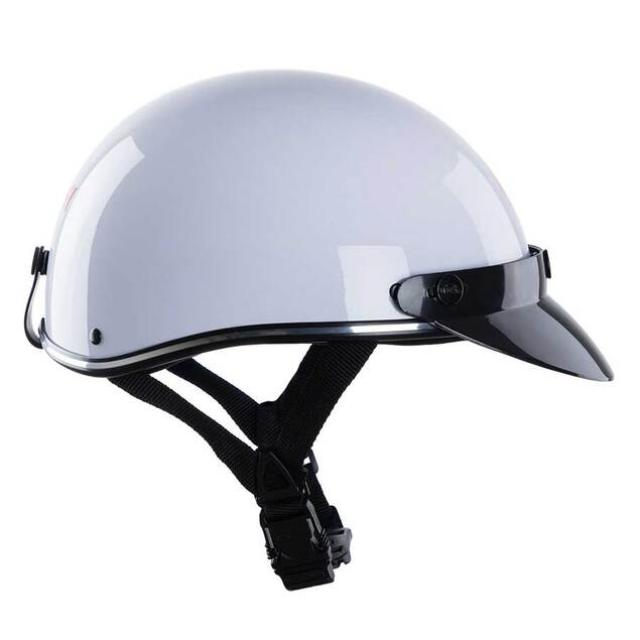Helmet: (16, 48, 614, 594)
